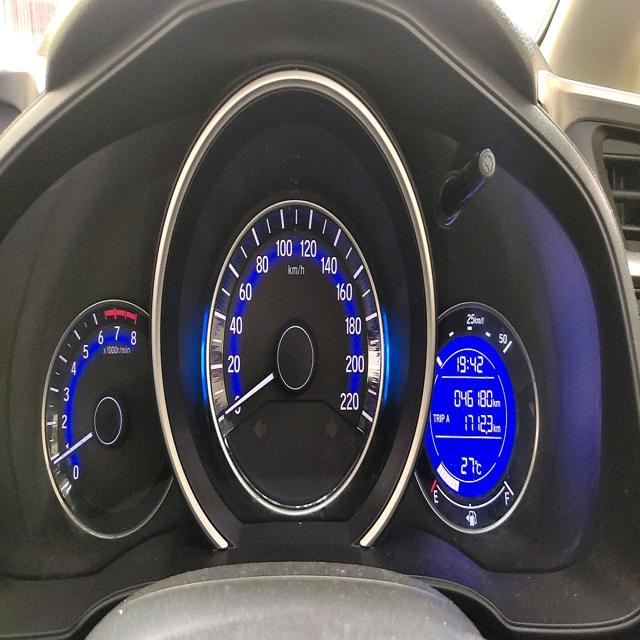odometer: (450, 385, 493, 412)
